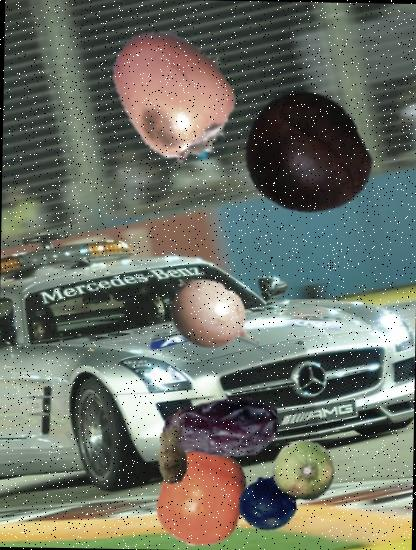Chestnut: (237, 88, 370, 221)
Clementine: (152, 447, 253, 548)
Dates: (161, 369, 280, 487)
Ginger: (142, 424, 204, 486)
Granadilla: (164, 268, 266, 370)
Huckleberry: (238, 474, 297, 532)
Kaki: (104, 20, 249, 164)
Limes: (271, 439, 336, 504)
